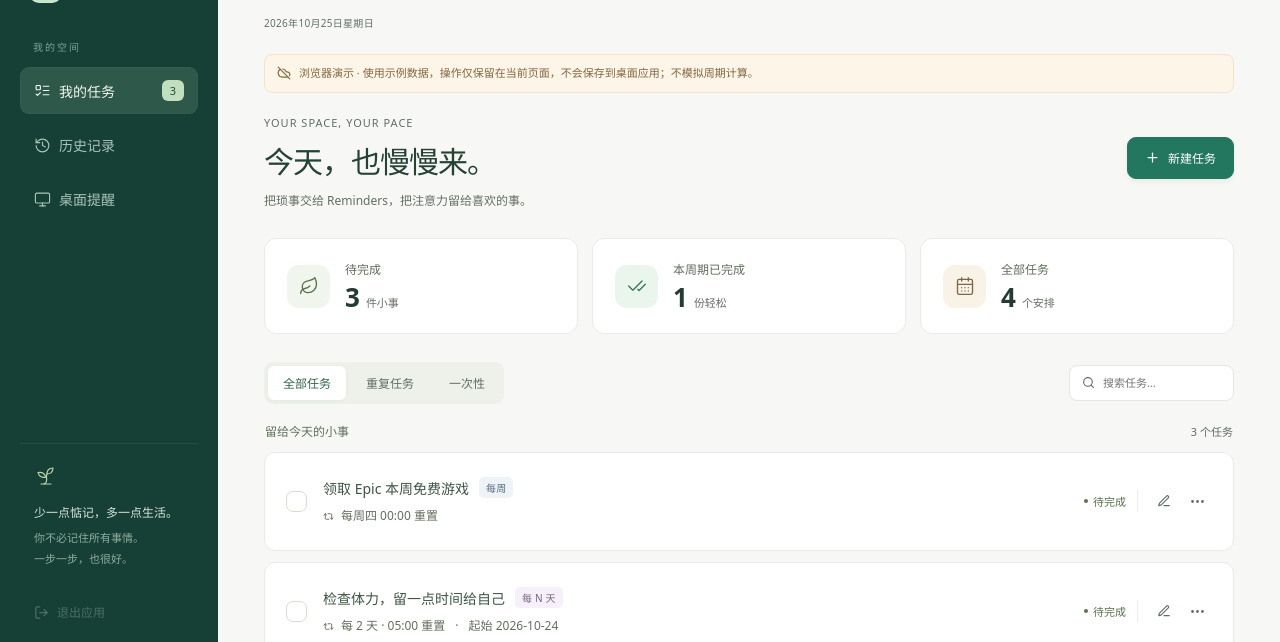
编辑器行为 › 演示设置更新明确说明没有真实保存
The width and height of the screenshot is (1280, 642).
Check: the heading "领取 Epic 本周免费游戏" is shown, box [323,478,469,498]
Click the button "桌面提醒" at (109,199), box [20,176,198,222]
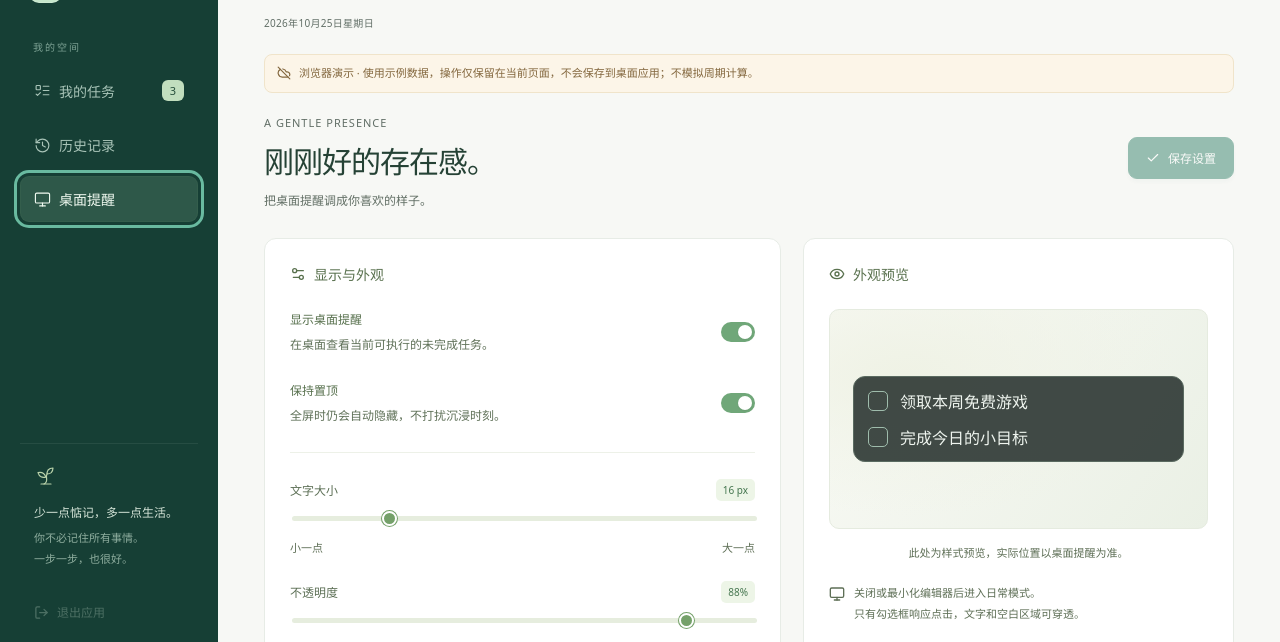
Click the switch named "保持置顶" at (738,403), box [721,393,755,413]
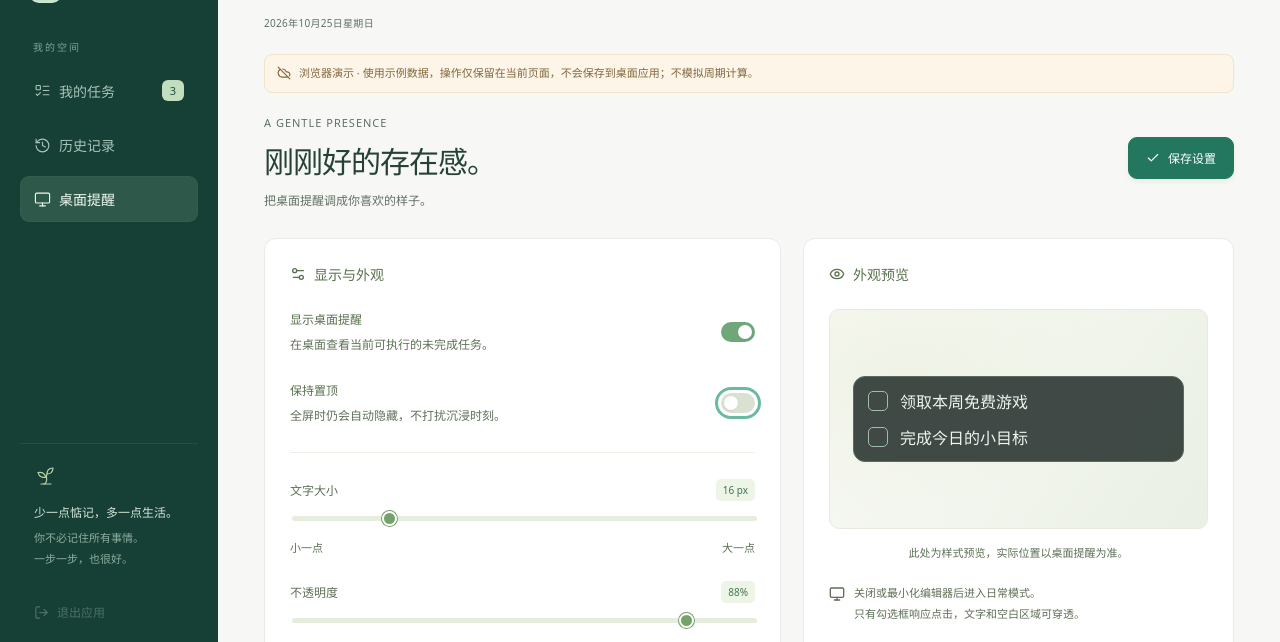
Click the button "保存设置" at (1181,158), box [1128,137,1234,179]
(page scrolled)
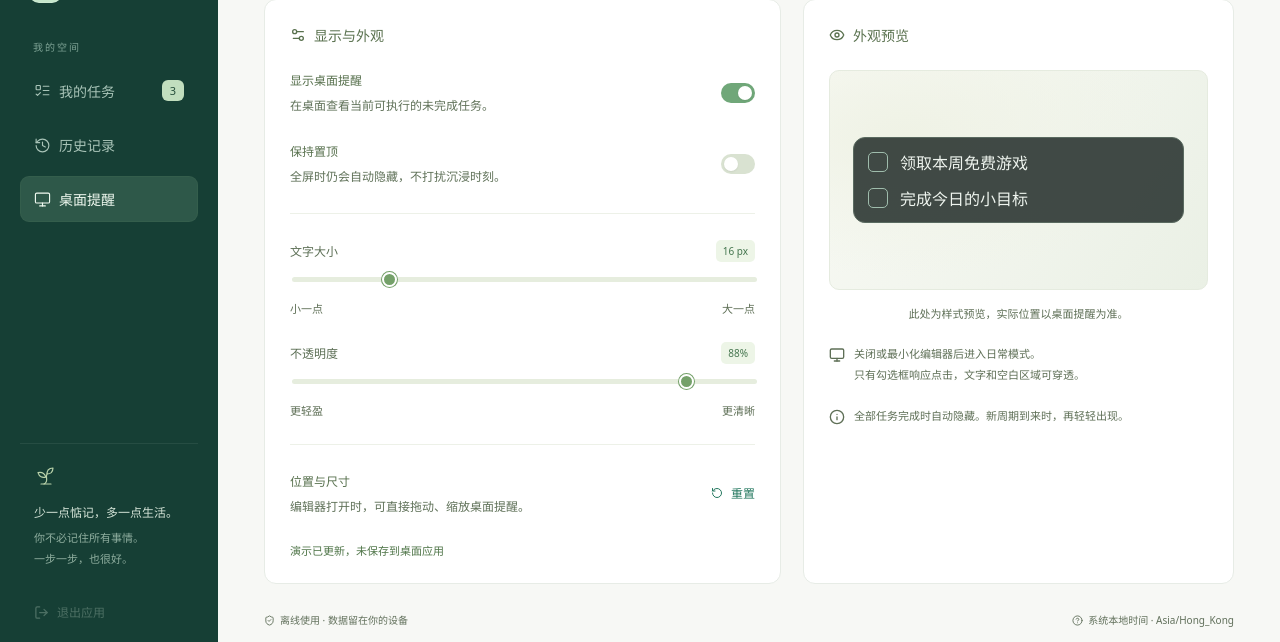
Check: the text "演示已更新，未保存到桌面应用" is shown, box [290,543,444,558]
